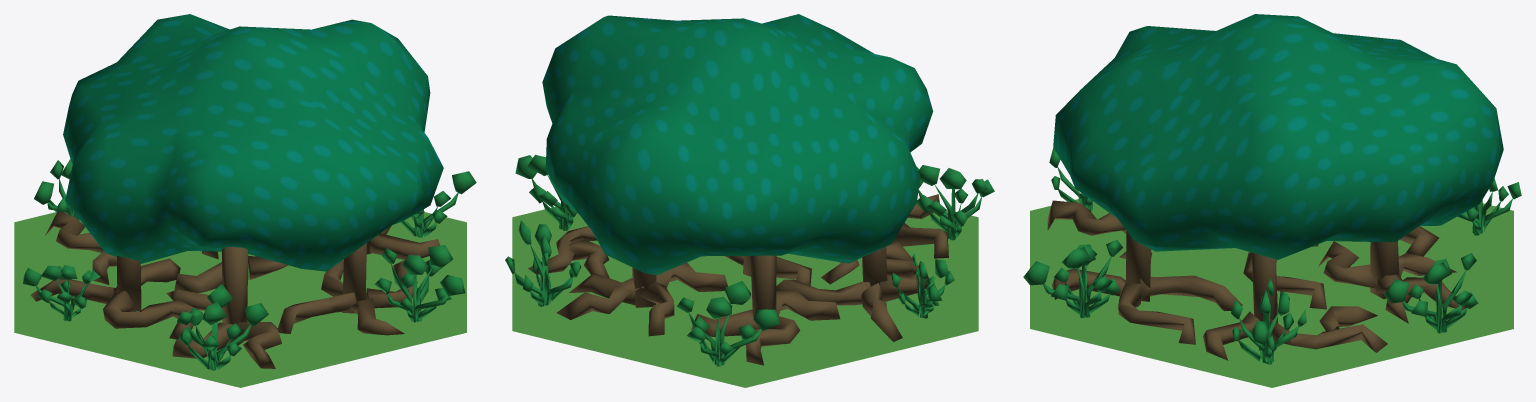
File: Forest_1.fbx
3 views of the same model, side by side, from view 1: azimuth 30°, elevation 25°; view 2: azimuth 150°, elevation 25°; view 3: azimuth 270°, elevation 25° (orthographic). The views are drawn at different scales.
Visible parts, largest first — view 1: Forest_1; view 2: Forest_1; view 3: Forest_1.
Boxes of the visible parts, x1,y1,x2,y2 form: Forest_1: [14, 14, 476, 387]; Forest_1: [505, 14, 994, 387]; Forest_1: [1023, 14, 1521, 387].
Bounding box in the file's own units: 139 × 71.54 × 124.
1 material, 1 textured.
